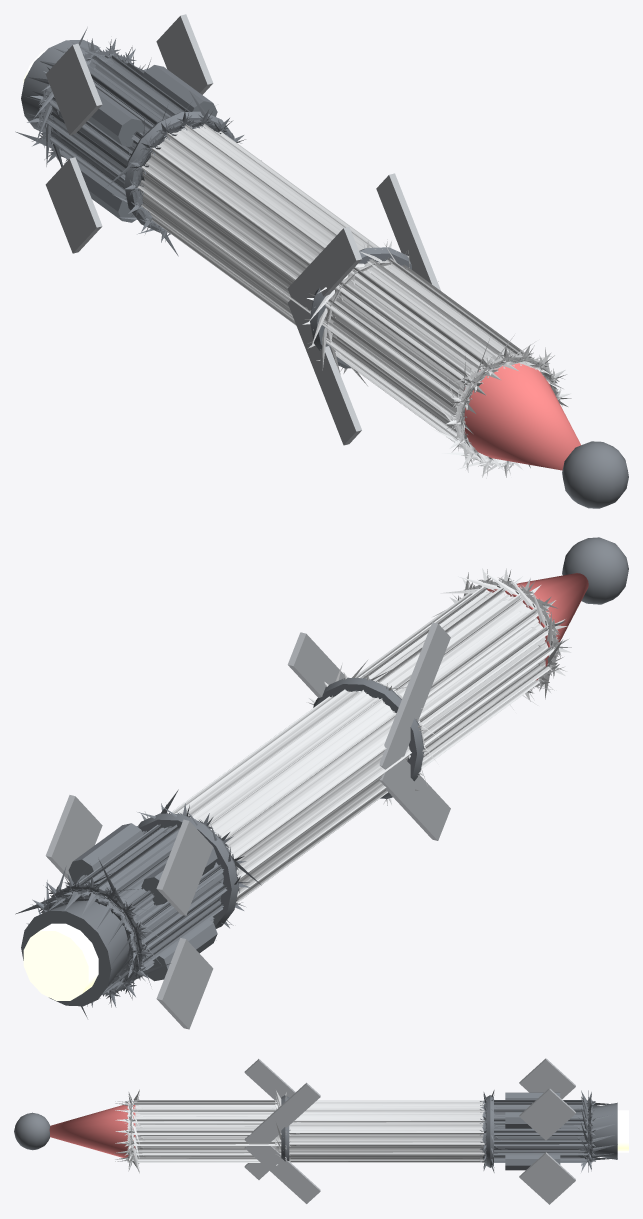
Rendered from missile.glb.
3 views of the same model, one above another, from view 1: azimuth 30°, elevation 25°; view 2: azimuth 150°, elevation 25°; view 3: azimuth 270°, elevation 25° (orthographic). The views are drawn at different scales.
Visible parts, largest first — view 1: MissileBody; view 2: MissileBody, Glow; view 3: MissileBody, Glow.
Part boxes in pixels (x1=…): MissileBody: x1=15, y1=14, x2=628, y2=508; MissileBody: x1=15, y1=537, x2=628, y2=1029; Glow: x1=23, y1=923, x2=98, y2=1000; MissileBody: x1=14, y1=1058, x2=617, y2=1204; Glow: x1=617, y1=1110, x2=628, y2=1152.
Size of the model in its own units: 0.4039 by 0.5304 by 2.46.
